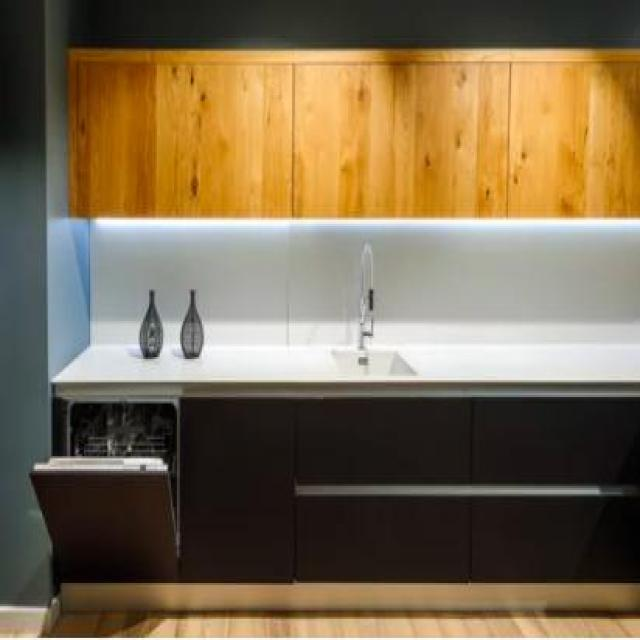dishwasher: (27, 397, 178, 583)
